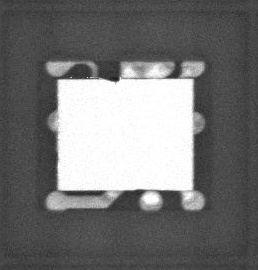DIE_BROKEN: (105, 75, 121, 84)
